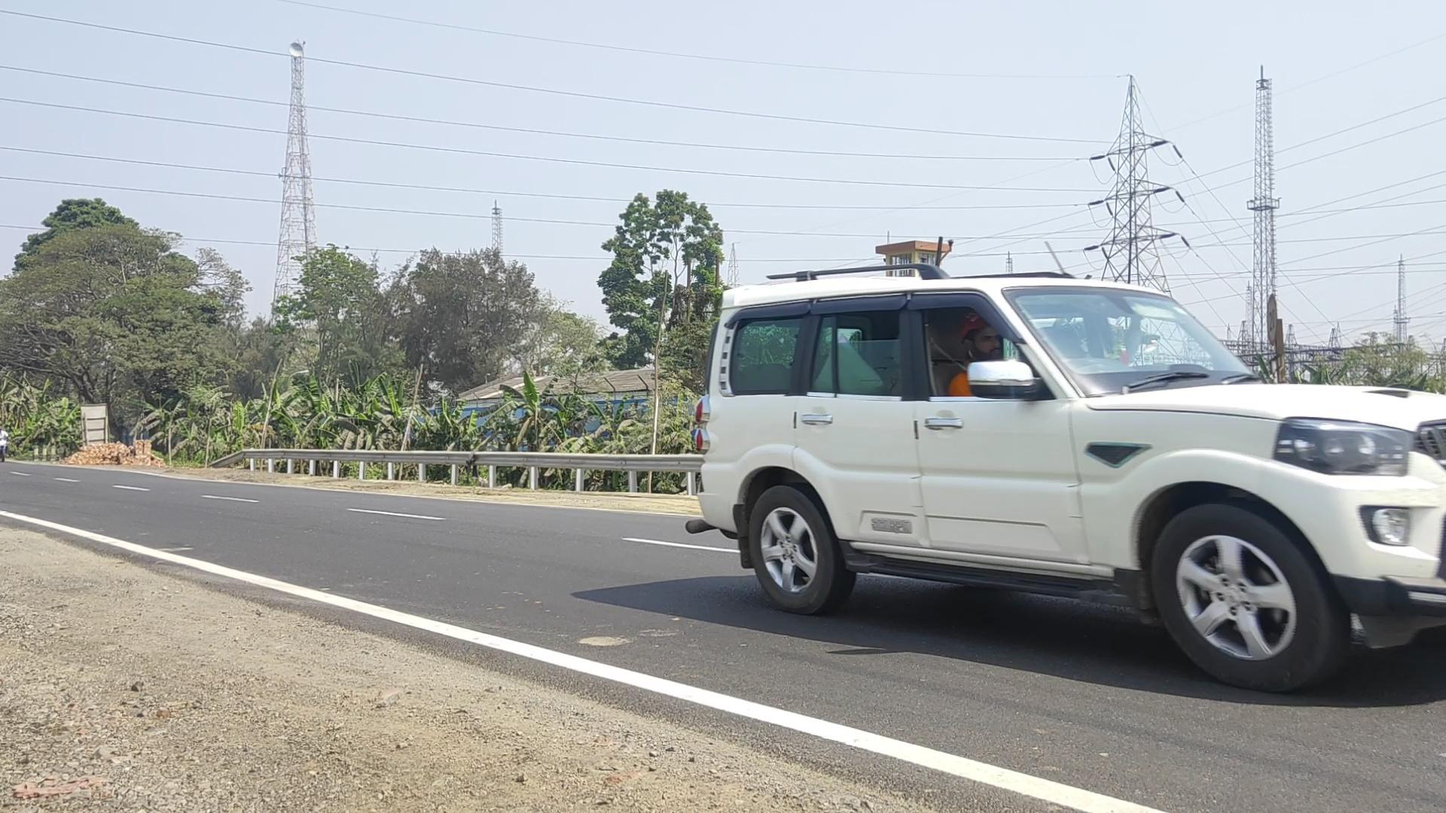car: (686, 264, 1446, 694)
